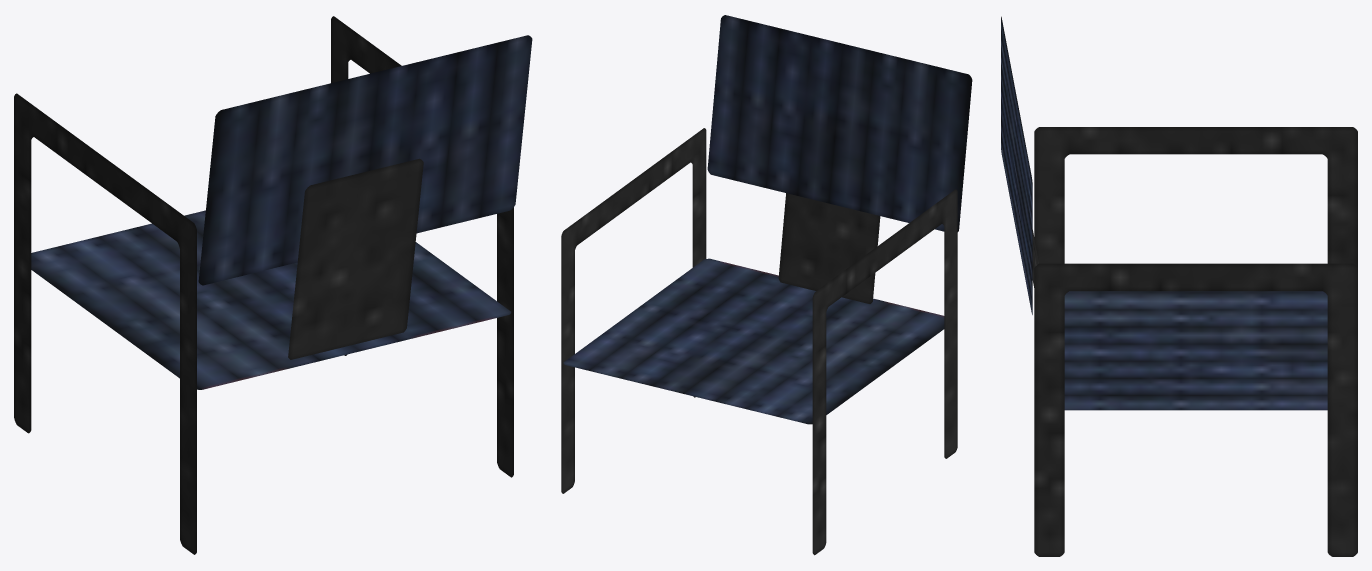
The model's file is station_chair.fbx.
3 views of the same model, side by side, from view 1: azimuth 30°, elevation 25°; view 2: azimuth 150°, elevation 25°; view 3: azimuth 270°, elevation 25° (orthographic). The views are drawn at different scales.
Visible parts, largest first — view 1: plane_1, plane, plane_4, plane_3, plane_2; view 2: plane_1, plane, plane_3, plane_2, plane_4; view 3: plane, plane_2, plane_3, plane_1.
Part boxes in pixels (box(x1,y1,x2,y2)): plane_1: box(198, 35, 532, 285); plane: box(31, 210, 511, 389); plane_4: box(288, 158, 423, 359); plane_3: box(14, 93, 196, 554); plane_2: box(331, 16, 513, 477); plane_1: box(707, 15, 972, 231); plane: box(563, 258, 944, 424); plane_3: box(812, 189, 957, 555); plane_2: box(561, 128, 706, 493); plane_4: box(778, 193, 880, 303); plane: box(1064, 291, 1327, 410); plane_2: box(1034, 263, 1357, 556); plane_3: box(1034, 127, 1357, 267); plane_1: box(1001, 16, 1032, 314).
Size of the model in its own units: 100 by 139 by 110.
Materials: 1 (1 with a texture image).
